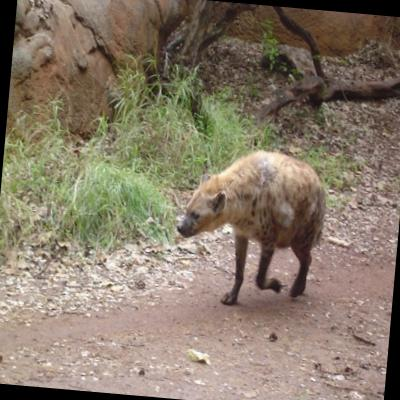hyenas: (161, 121, 400, 336)
